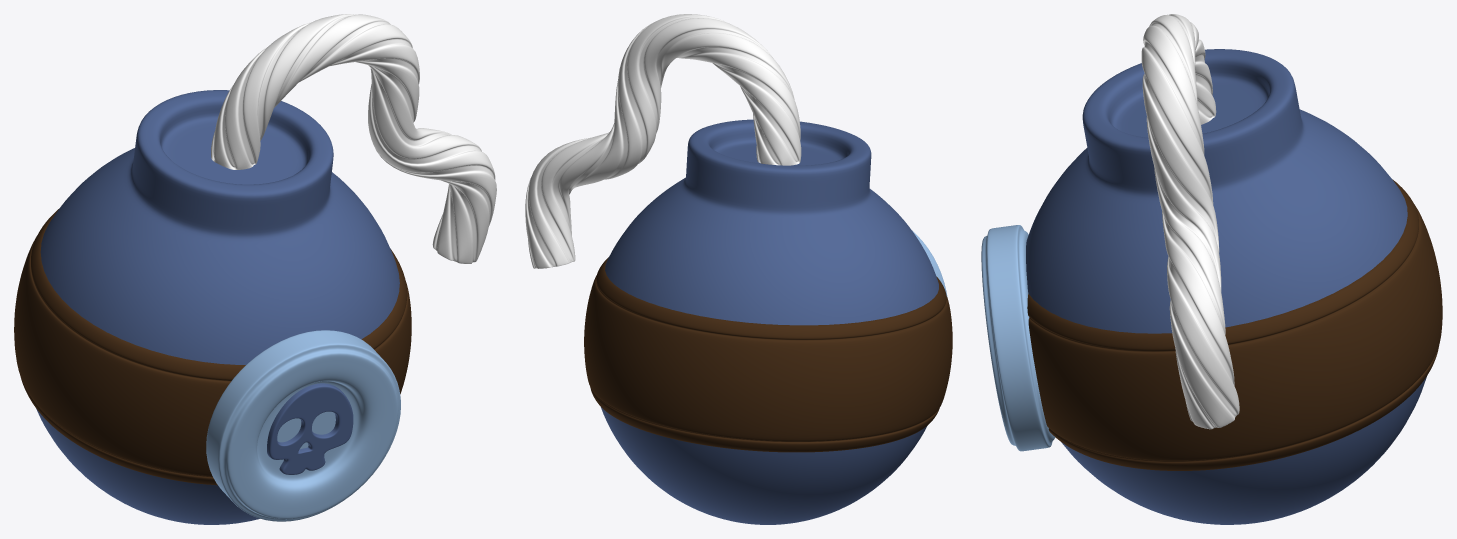
Rendered from Bomb.glb.
3 renders of one model, left to right at view 1: azimuth 30°, elevation 25°; view 2: azimuth 150°, elevation 25°; view 3: azimuth 270°, elevation 25°, orthographic. The views are drawn at different scales.
Visible parts, largest first — view 1: Sphere.003, Sphere.004, Vert, Cylinder.018, Plane.004; view 2: Sphere.003, Sphere.004, Vert; view 3: Sphere.003, Sphere.004, Vert, Cylinder.018.
Boxes of the visible parts, x1,y1,x2,y2 form: Sphere.003: (36, 90, 399, 524); Sphere.004: (14, 208, 411, 485); Vert: (211, 14, 496, 263); Cylinder.018: (206, 330, 400, 521); Plane.004: (267, 383, 353, 474); Sphere.003: (601, 119, 938, 524); Sphere.004: (584, 257, 952, 452); Vert: (525, 14, 801, 268); Sphere.003: (1026, 49, 1426, 524); Sphere.004: (1027, 179, 1442, 470); Vert: (1141, 14, 1239, 429); Cylinder.018: (981, 225, 1055, 451).
Bounding box in the file's own units: 5.61 × 5.9 × 4.67.
